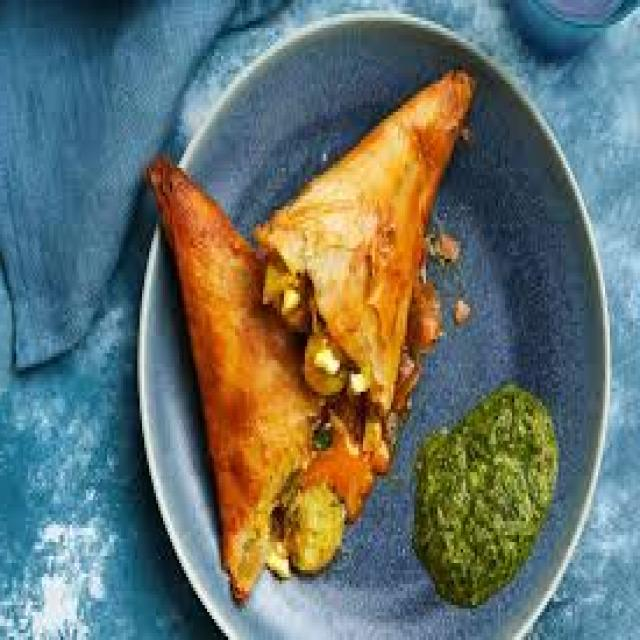Brik: (147, 71, 471, 600)
